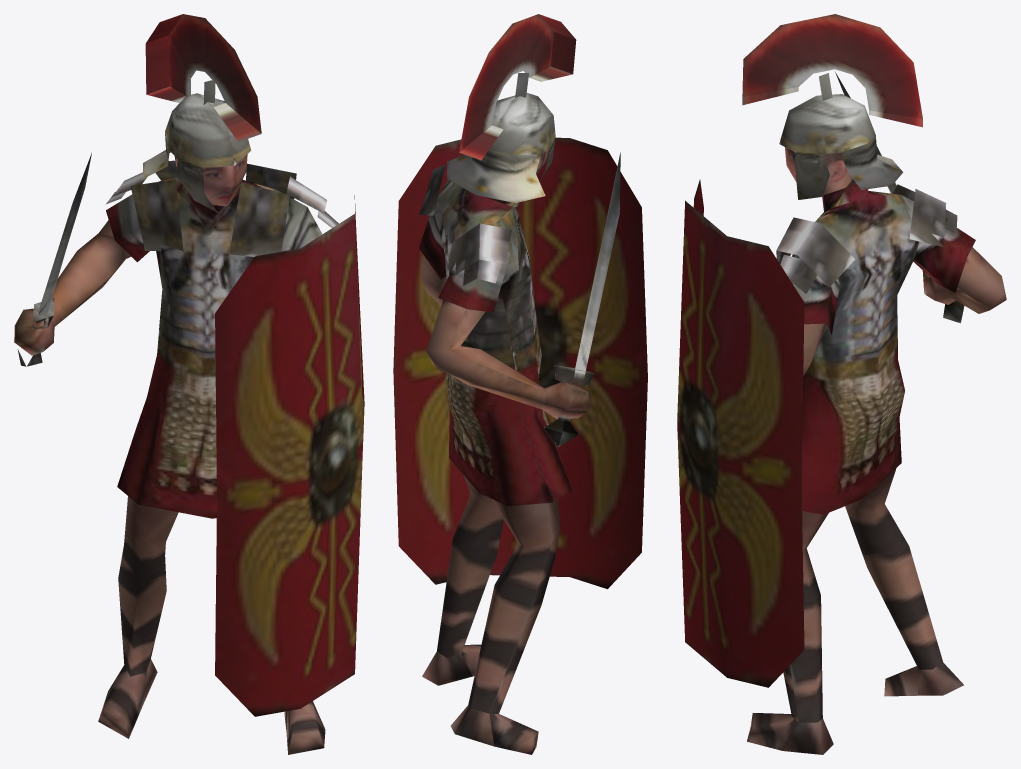
The model's file is Legion.glb.
3 views of the same model, side by side, from view 1: azimuth 30°, elevation 25°; view 2: azimuth 150°, elevation 25°; view 3: azimuth 270°, elevation 25° (orthographic). The views are drawn at different scales.
Parts seen in each view (by area): view 1: LegionExport; view 2: LegionExport; view 3: LegionExport.
Boxes of the visible parts, <box> form: LegionExport: <box>14,14,364,754</box>; LegionExport: <box>393,14,647,754</box>; LegionExport: <box>677,14,1006,754</box>.
Bounding box in the file's own units: 0.8883 × 2.22 × 0.9488.
1 material, 1 textured.
